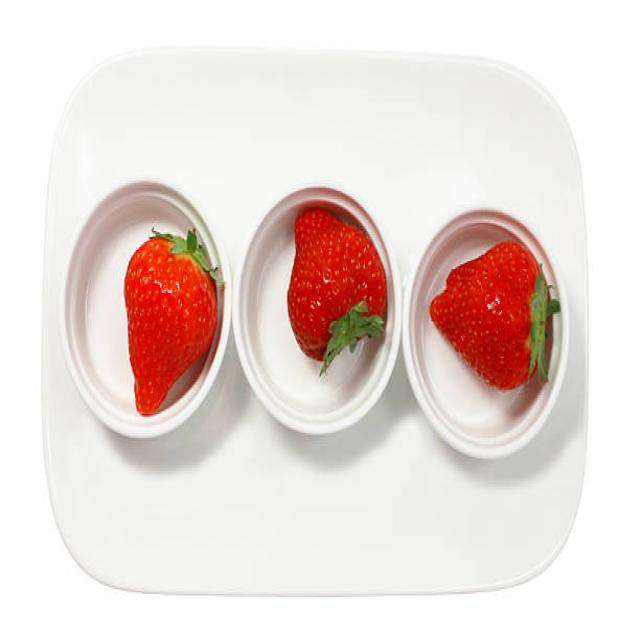Healthy Fruit: (428, 237, 540, 393), (123, 235, 217, 416), (286, 206, 387, 364)
